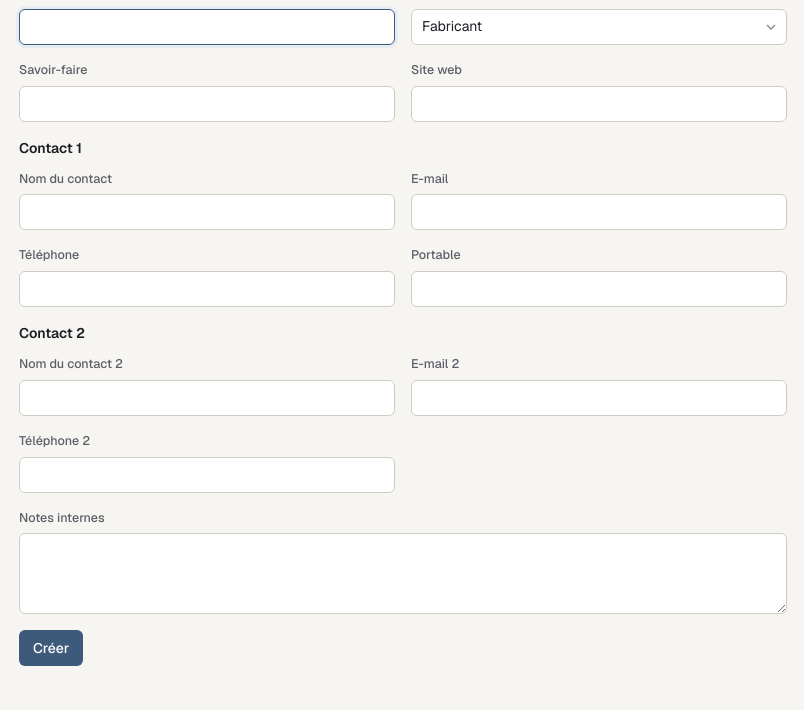
it: professionnels › un nom vide est refusé par l’API et affiché sous le champ
(page scrolled)
Expected: the field labelled "Nom" is shown, [19,9,395,45]
Click the button "Créer" at {"x": 51, "y": 648}, box [19,630,83,666]
(page scrolled)
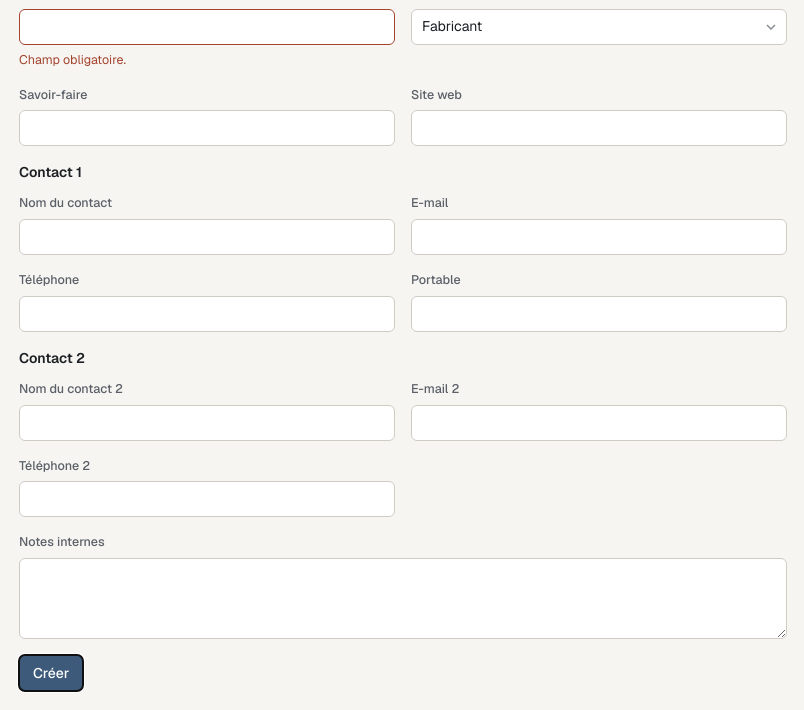
Expected: the text "Champ obligatoire." is shown, [19,51,126,68]
